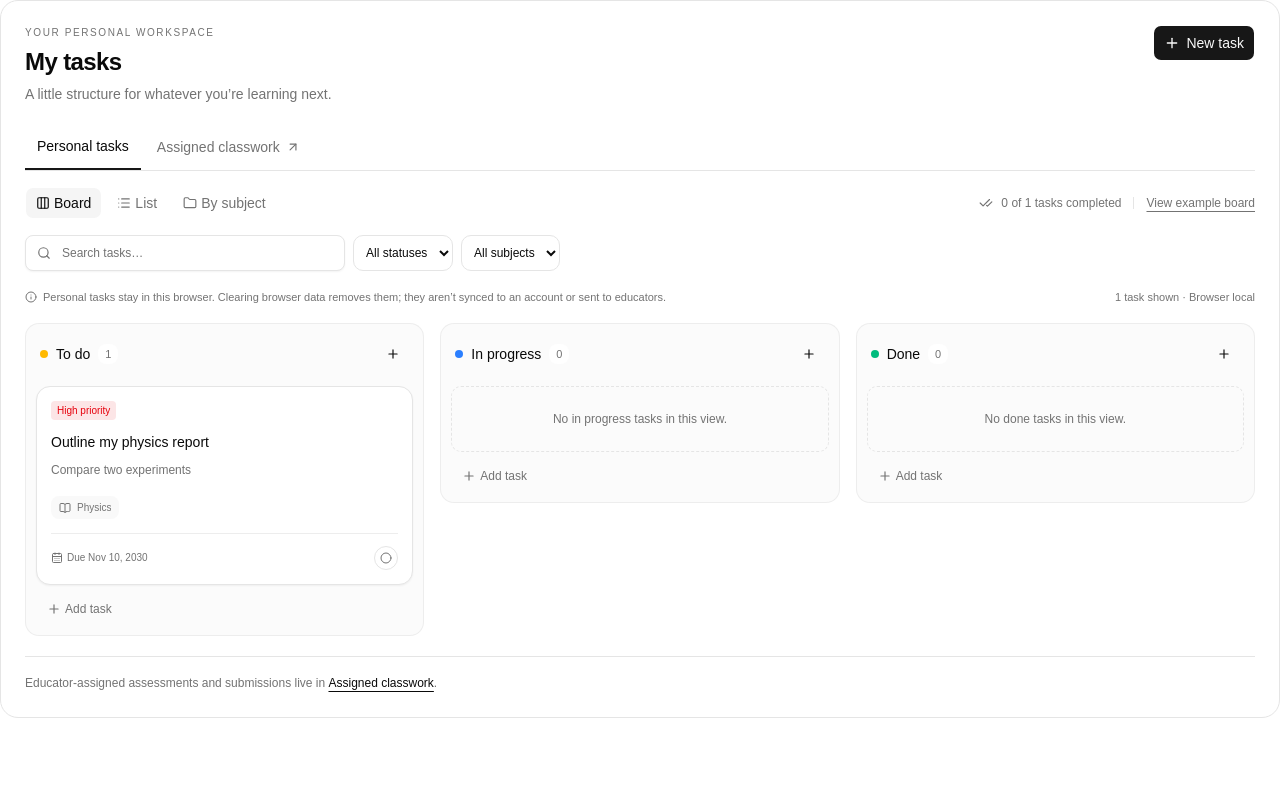
reference-aligned personal tasks › keeps failed changes on the page and reports a successful retry accurately
Click the button named "Complete task Outline my physics report".
click(386, 558)  # box left=374, top=546, right=398, bottom=570
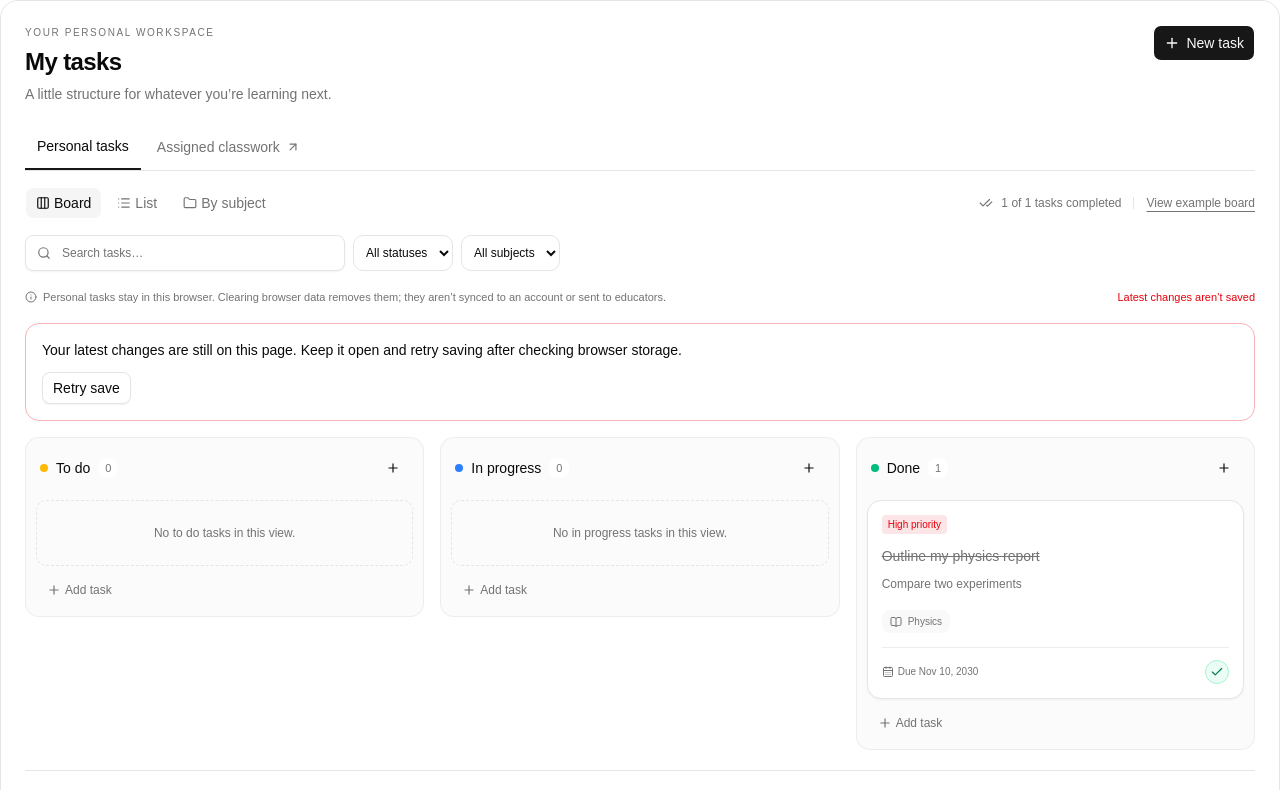
Expected: the message "Latest changes aren’t saved" is shown, left=1117, top=287, right=1255, bottom=307
Click the button "Retry save".
click(86, 388)  # box left=42, top=372, right=131, bottom=404
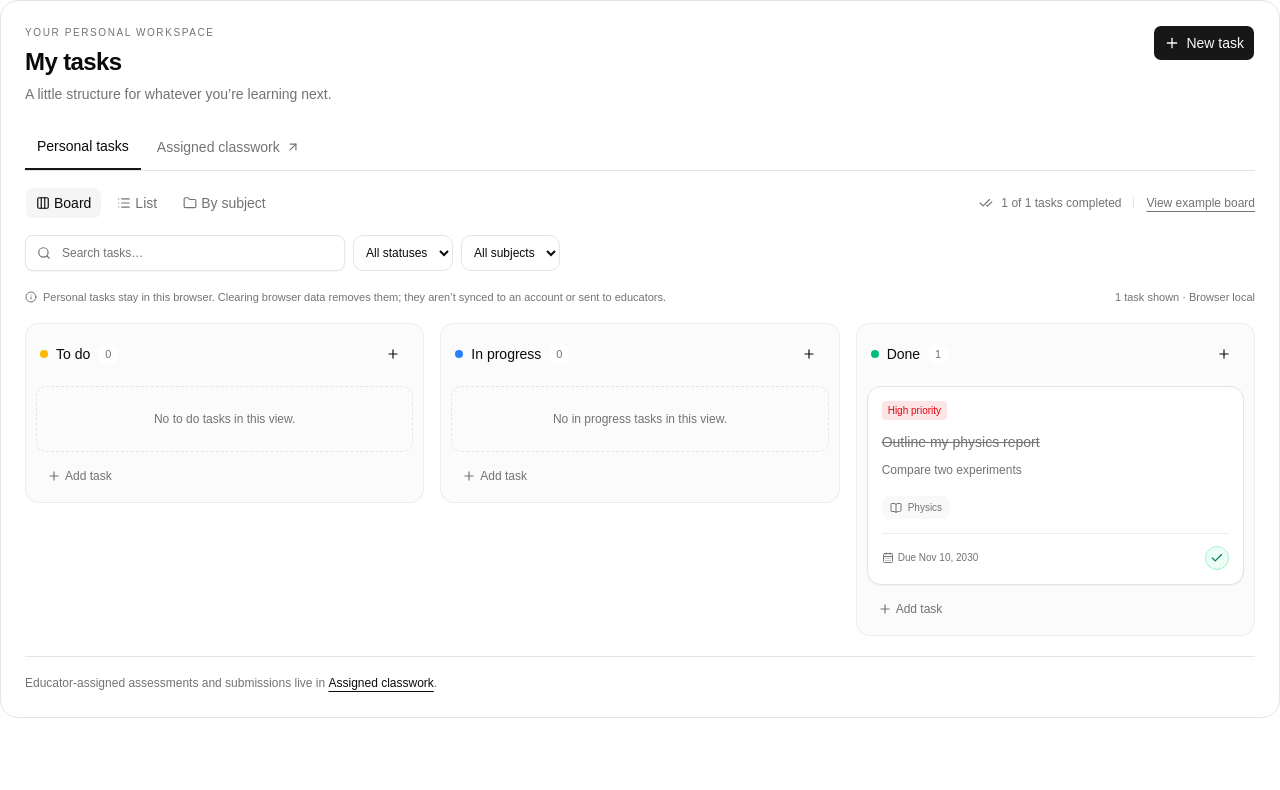
Expected: the message "Latest changes aren’t saved" no longer shows "aren’t saved"
